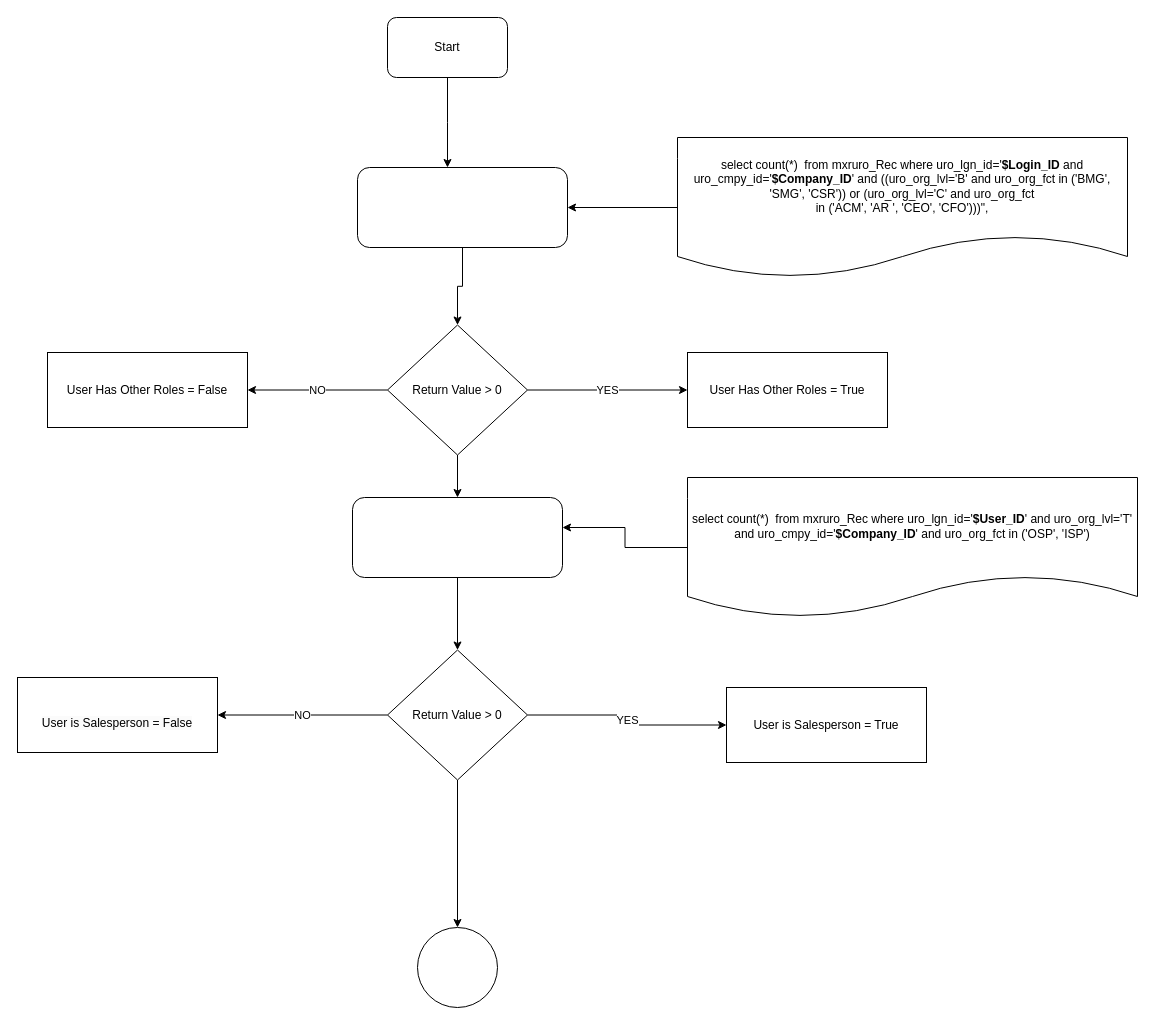
This 1155x1025 diagram has some shape labels left out. The centre of each missing label's shape, as x and y in pixels:
Read MXRURO for Other Roles (User Role Table): (x=462, y=207)
Read MXRURO for Sales Person Role (User Role Table): (x=457, y=537)
Return: (x=457, y=967)
